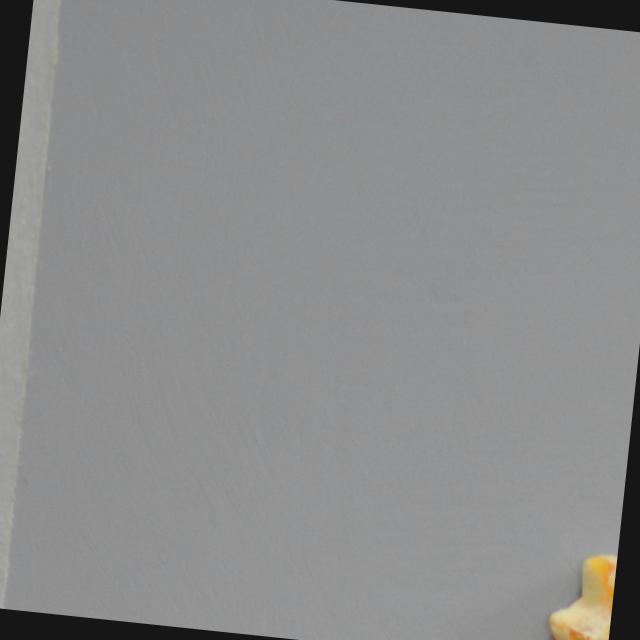pelicula: (545, 549, 617, 640)
